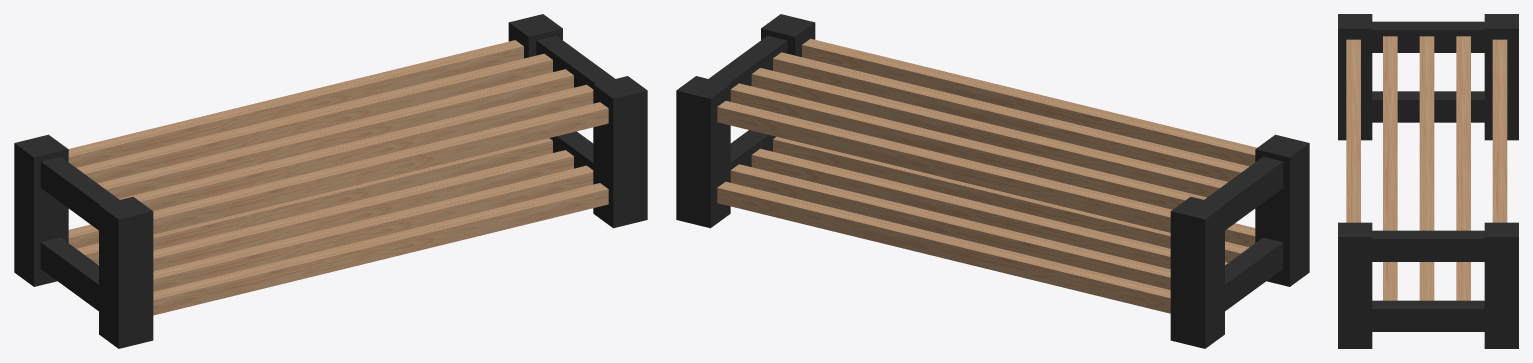
File: shoerack.fbx
3 renders of one model, left to right at view 1: azimuth 30°, elevation 25°; view 2: azimuth 150°, elevation 25°; view 3: azimuth 270°, elevation 25°, orthographic. The views are drawn at different scales.
Parts seen in each view (by area): view 1: Level, Legs, Side; view 2: Level, Legs, Side; view 3: Level, Legs, Side.
Boxes of the visible parts, x1,y1,x2,y2 form: Level: [68, 40, 608, 315]; Legs: [14, 14, 647, 348]; Side: [40, 35, 614, 310]; Level: [717, 38, 1256, 313]; Legs: [676, 14, 1309, 348]; Side: [709, 35, 1283, 310]; Level: [1346, 36, 1507, 300]; Legs: [1338, 14, 1518, 348]; Side: [1372, 21, 1484, 331].
Size of the model in its own units: 171 by 40 by 58.59.
2 materials, 1 textured.
